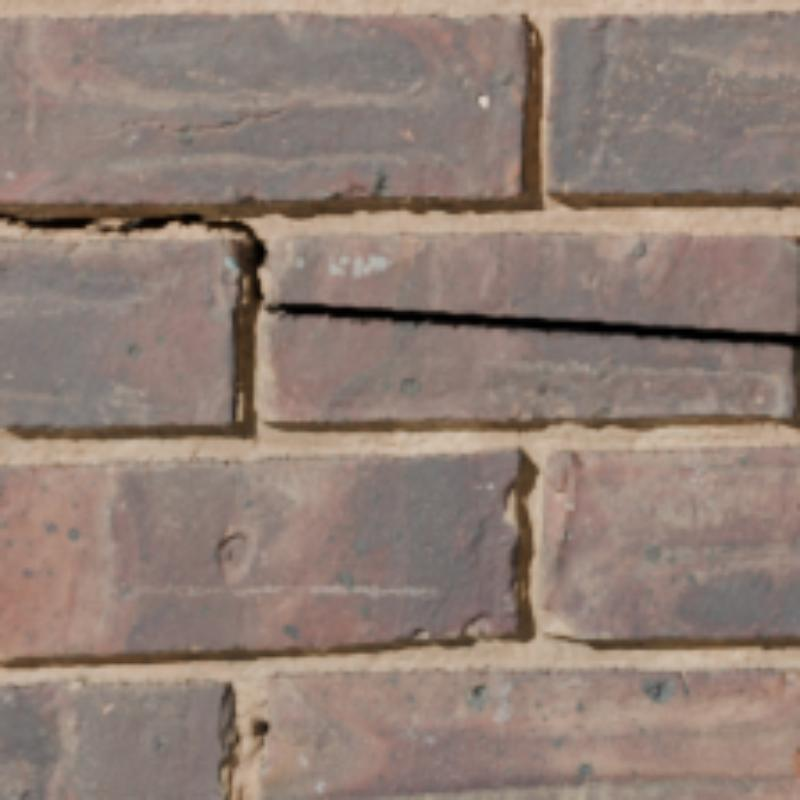crack: (0, 211, 796, 346)
